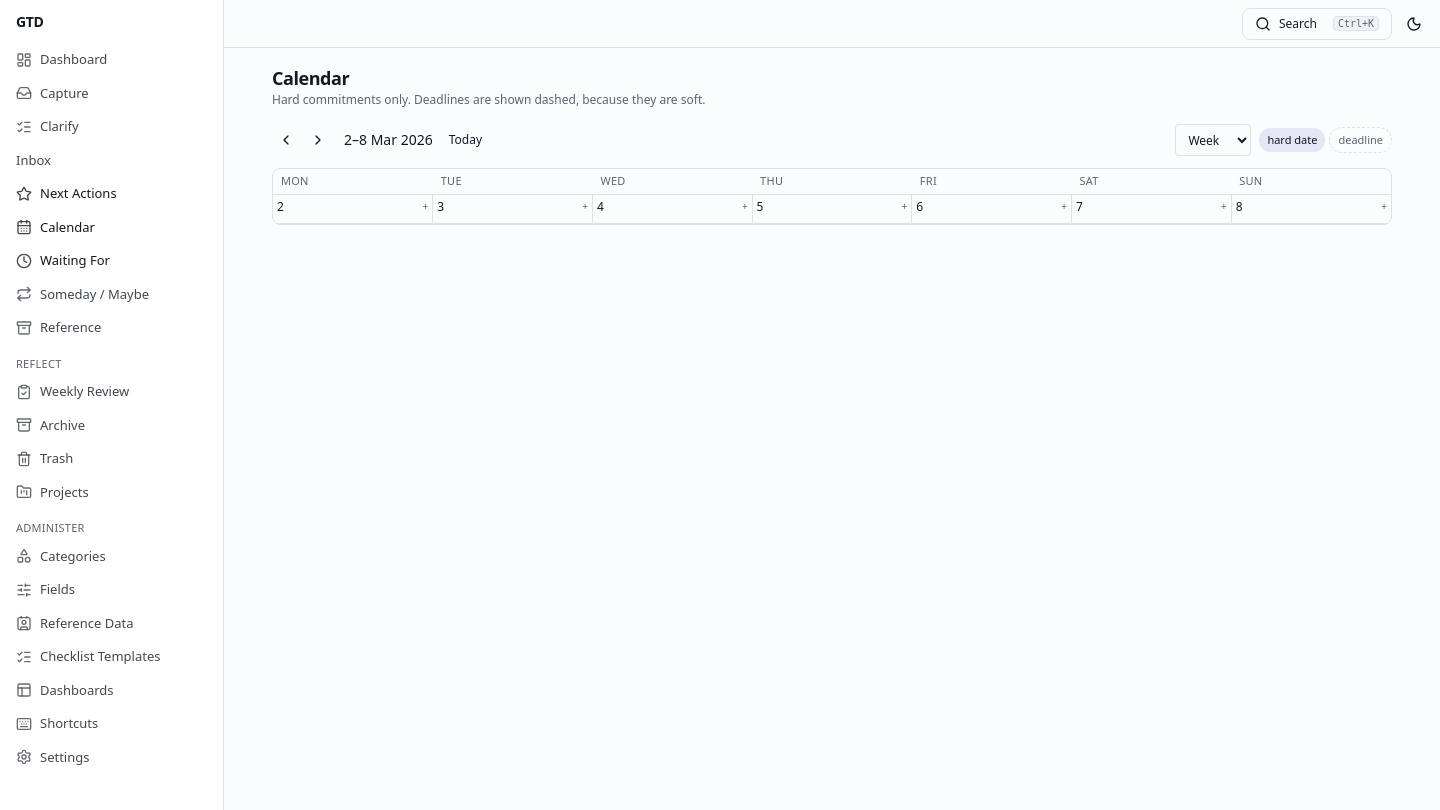
Test: the grid › steps forward a week
This screenshot has width=1440, height=810.
Click the button named "Next" at (318, 140), box [304,126,332,154]
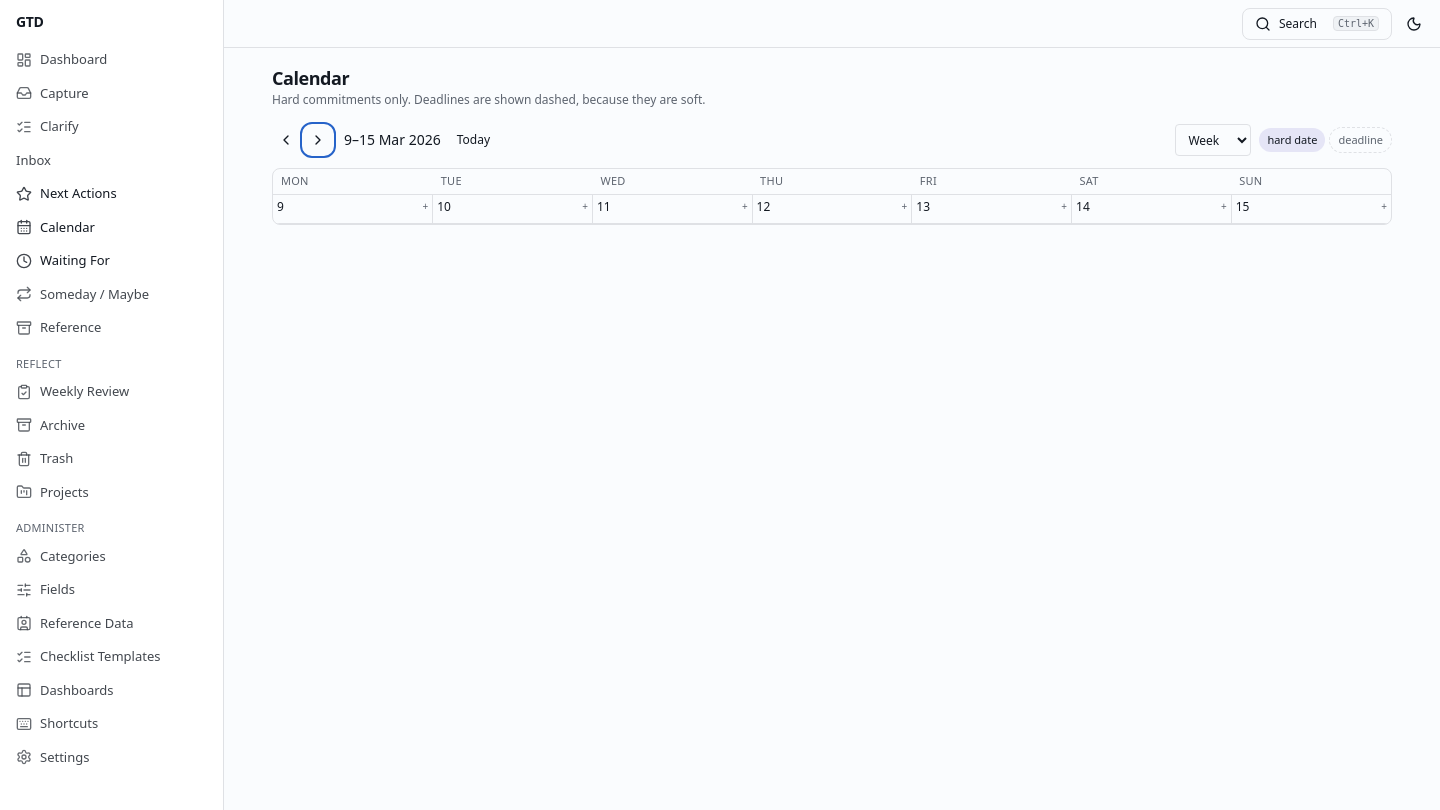
Check: the heading "9–15 Mar 2026" is shown, box [344,130,441,150]
